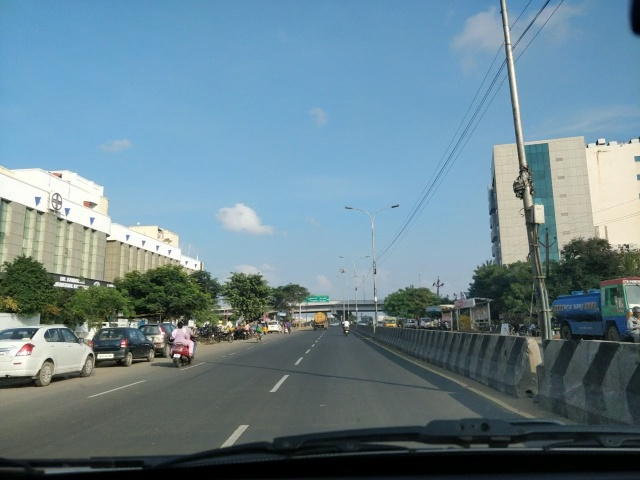car: (0, 325, 94, 385), (97, 326, 155, 368), (142, 318, 177, 359), (269, 321, 284, 334), (405, 319, 421, 330), (419, 318, 433, 326)
motorbike: (173, 320, 196, 368), (340, 317, 354, 336), (215, 331, 236, 343), (235, 326, 250, 340), (283, 319, 292, 334)
person: (256, 320, 264, 343)
truck: (550, 278, 639, 342), (311, 311, 331, 331), (383, 317, 397, 329)
